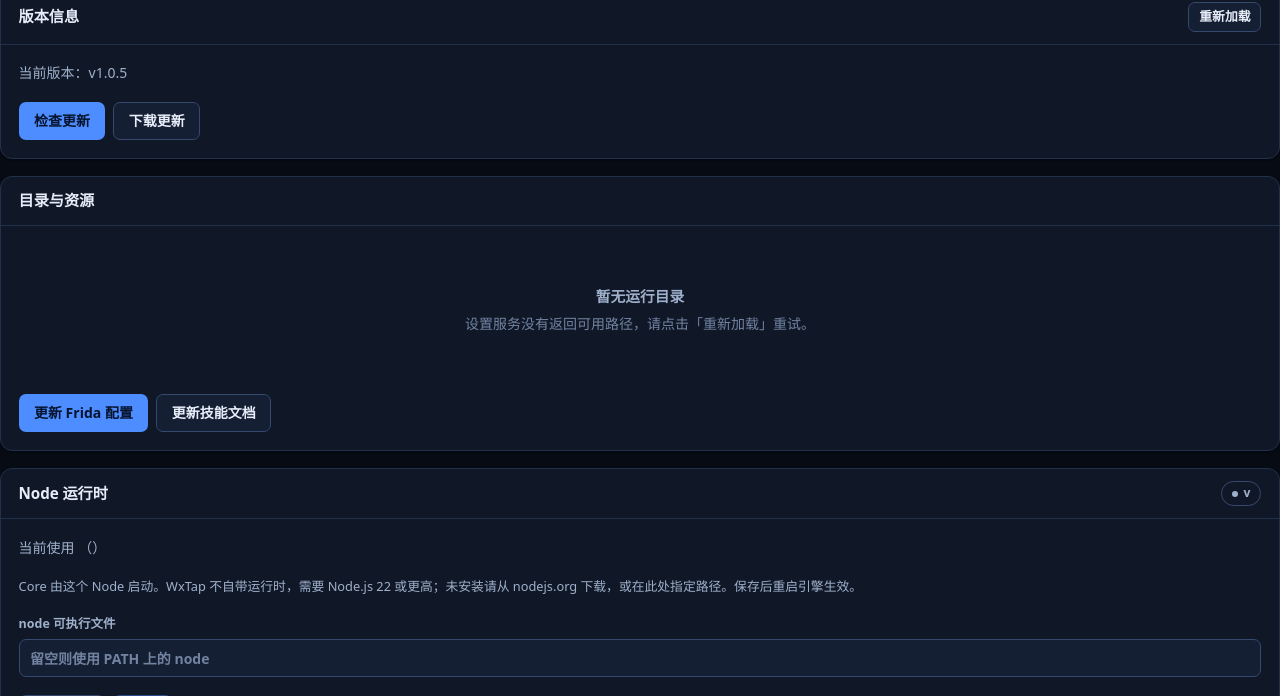
Scenario: SettingsView › saves a working path and re-reads the resolved Node
Type "C:/nodejs/node.exe" into the field with test id "node-path" at (640, 658), box [19, 639, 1261, 677]
(page scrolled)
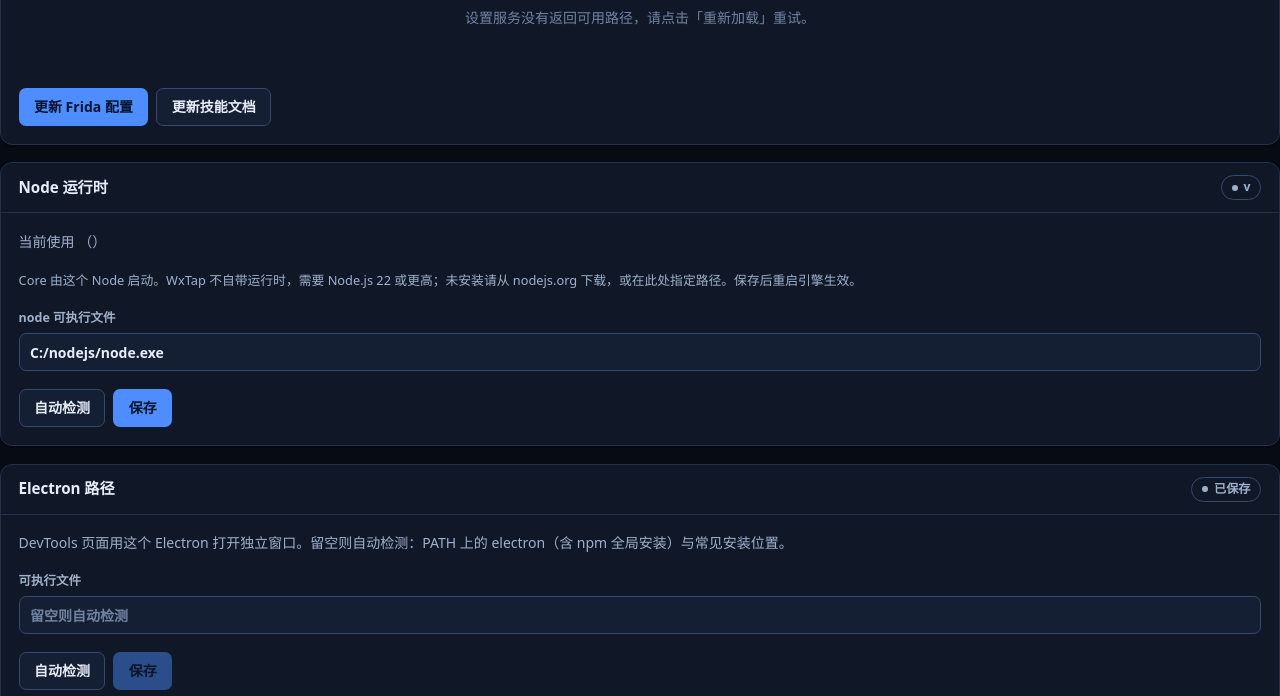
Click the button with test id "save-node" at (143, 408), box [113, 389, 172, 427]
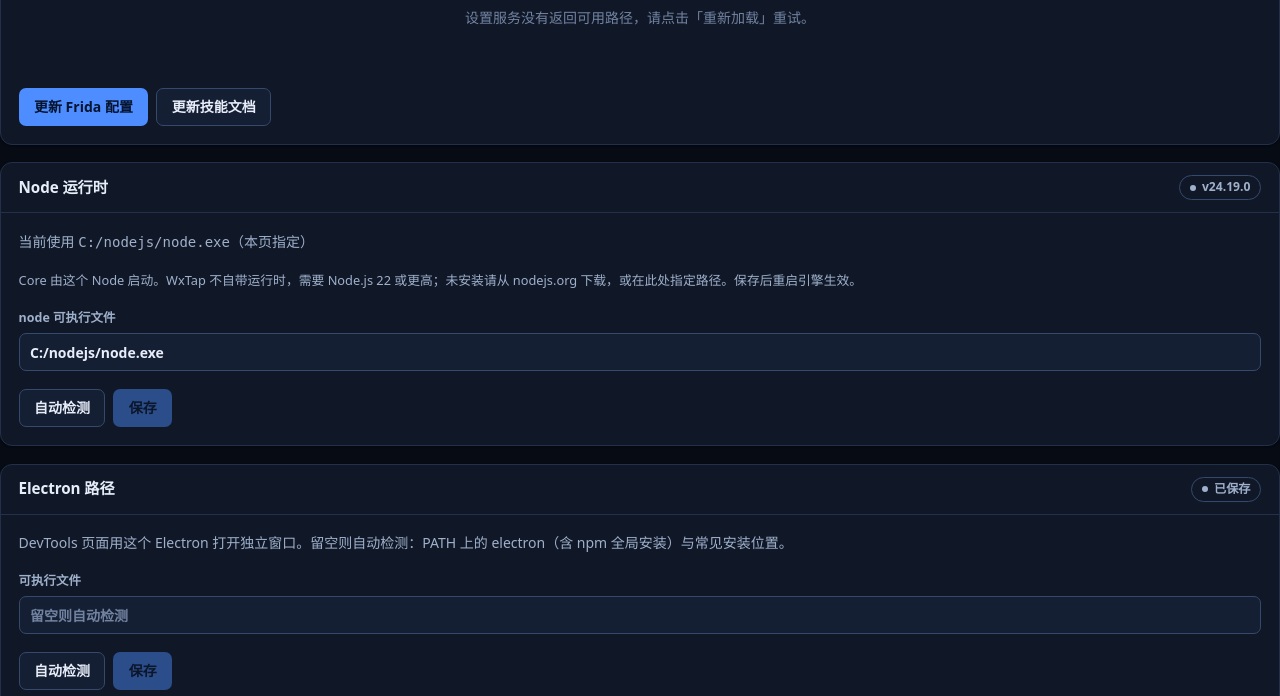
Expected: the text "C:/nodejs/node.exe" is shown, [78, 234, 230, 250]
Expected: the text "本页指定" is shown, [230, 232, 314, 251]
